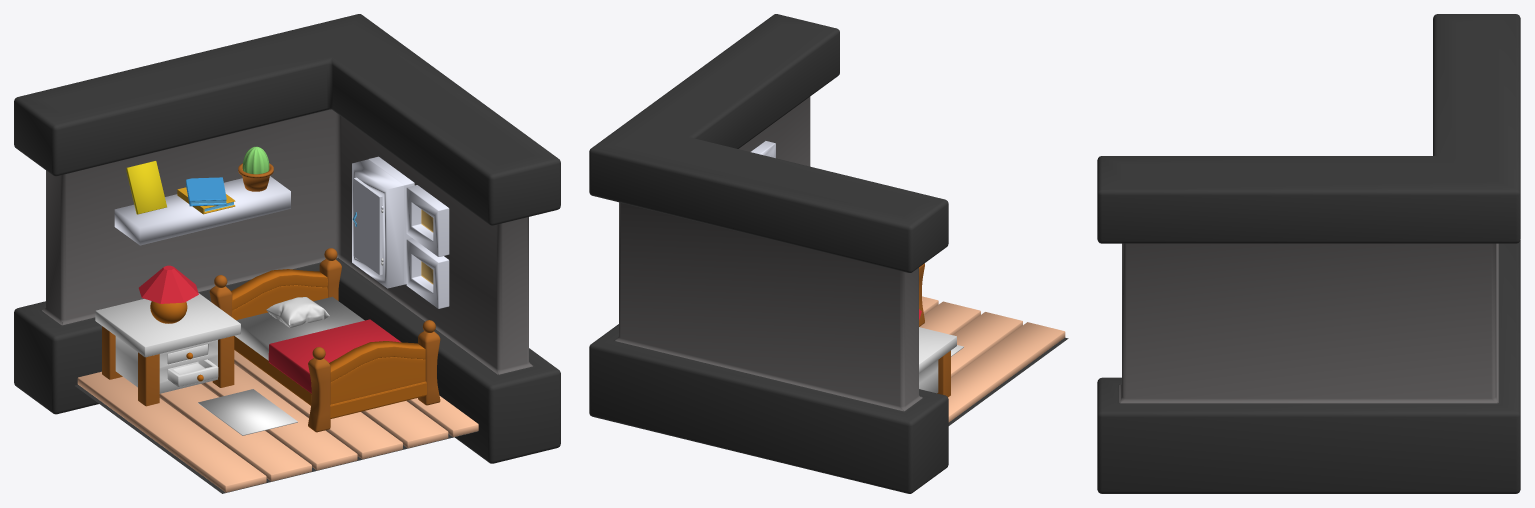
The model's file is Room.glb.
3 renders of one model, left to right at view 1: azimuth 30°, elevation 25°; view 2: azimuth 150°, elevation 25°; view 3: azimuth 270°, elevation 25°, orthographic. The views are drawn at different scales.
Parts seen in each view (by area): view 1: Cube, Plane.001, Cube.001, Plane.008, Plane.003, Cube.002, Plane.004, Plane.006, Plane.005, Plane.009, Plane.011, Plane.002 (+7 smaller); view 2: Cube, Plane.001, Plane.008, Plane.009; view 3: Cube.
Part boxes in pixels (x1,y1,x2,y2): Cube: (14, 14, 560, 463); Plane.001: (77, 350, 478, 492); Cube.001: (352, 156, 449, 308); Plane.008: (95, 293, 240, 393); Plane.003: (231, 269, 425, 404); Cube.002: (114, 176, 290, 245); Plane.004: (209, 248, 440, 432); Plane.006: (268, 319, 400, 393); Plane.005: (234, 296, 364, 360); Plane.009: (102, 326, 234, 406); Plane.011: (198, 389, 297, 435); Plane.002: (234, 336, 426, 418); Cube: (589, 14, 948, 493); Plane.001: (919, 296, 1065, 422); Plane.008: (919, 327, 956, 393); Plane.009: (937, 350, 950, 397); Cube: (1097, 14, 1520, 493).
Size of the model in its own units: 2.52 by 2 by 2.52.
